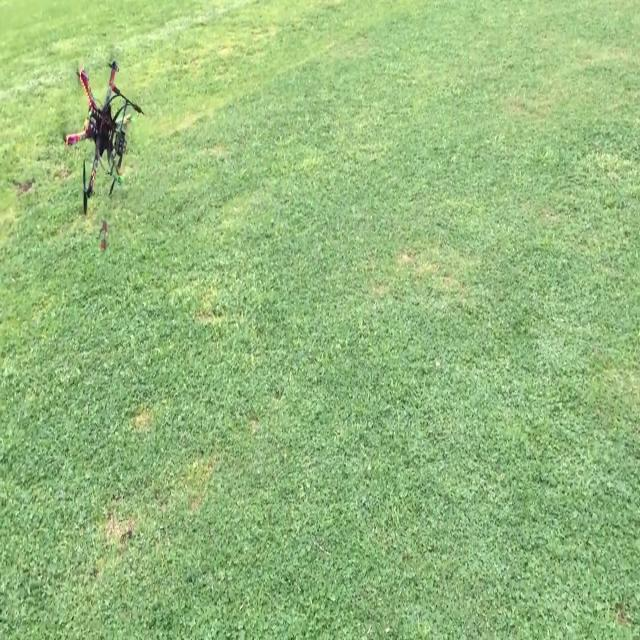drone: (33, 33, 150, 219)
